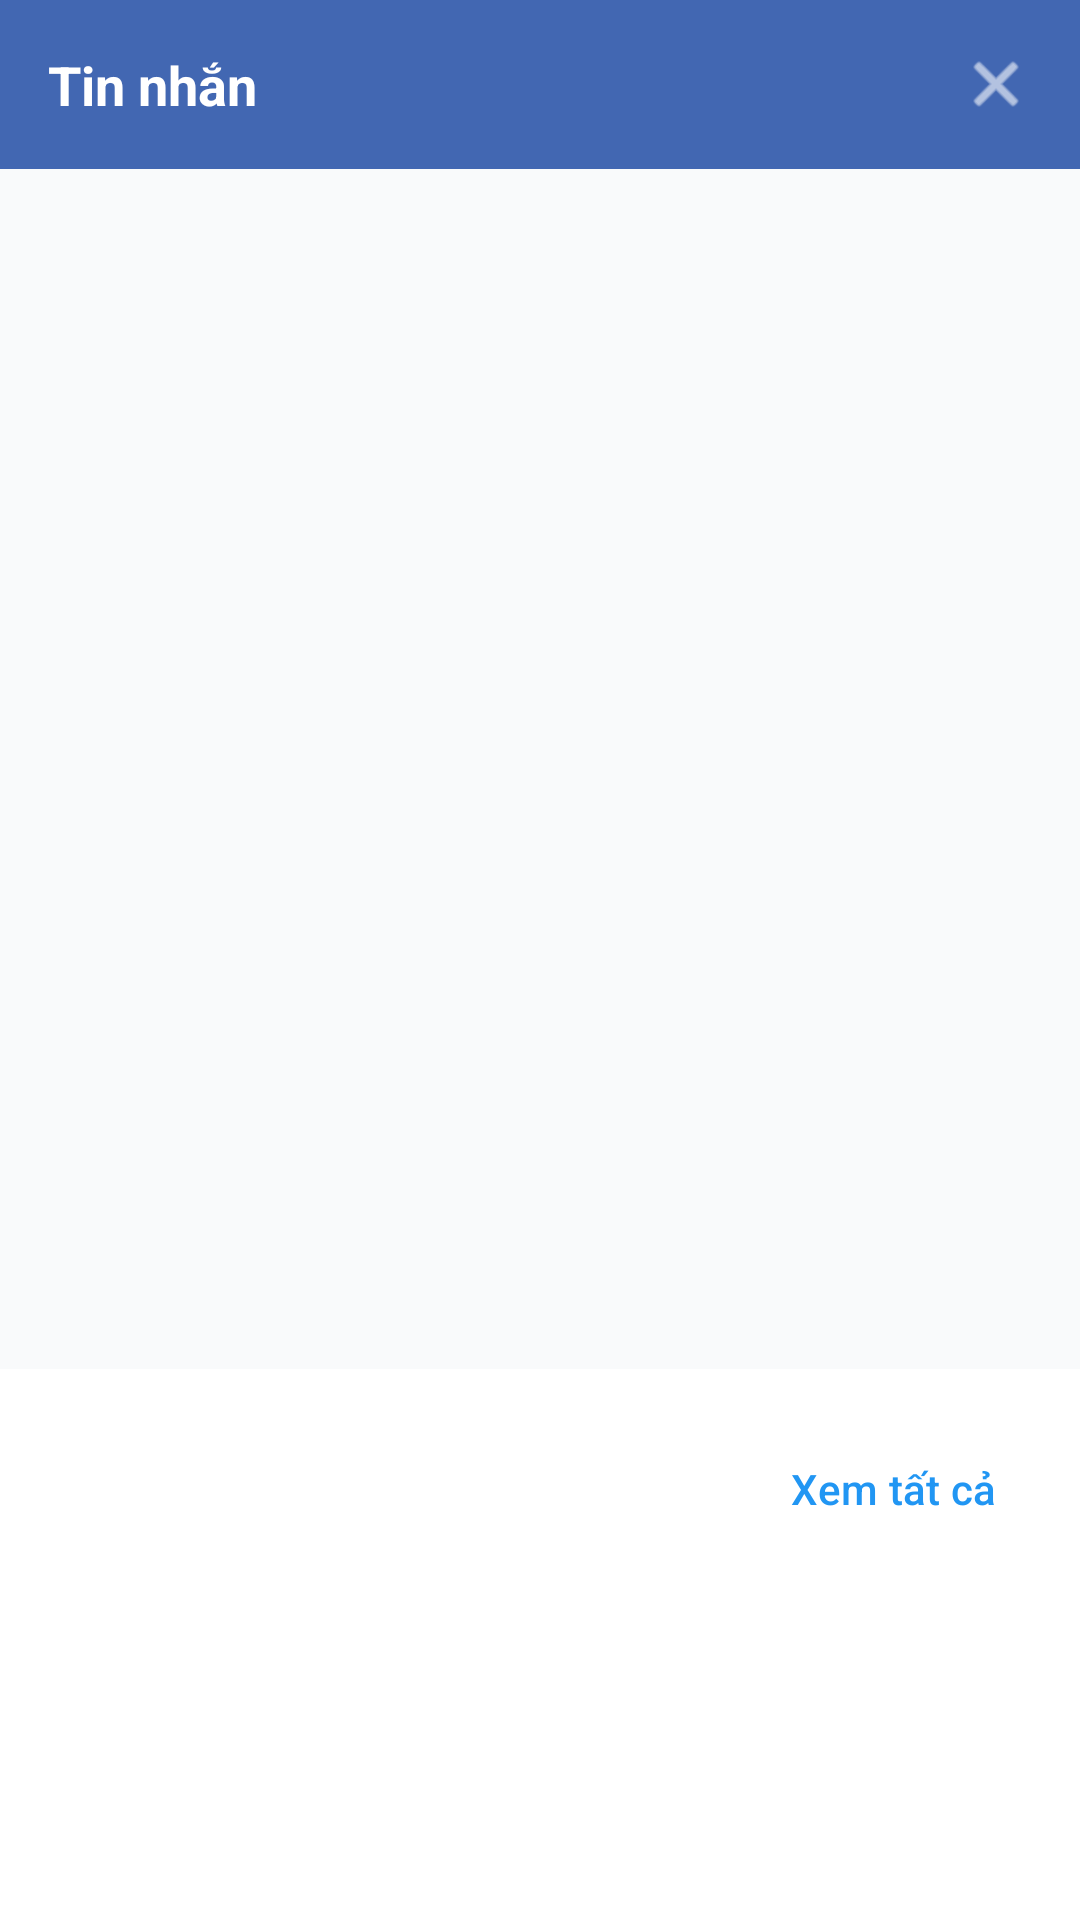

Where icons sit on this 1080x1920 app screen, as (left=x1, top=y1, right=x2, bottom=y2):
Đóng: (left=974, top=62, right=1018, bottom=106)
